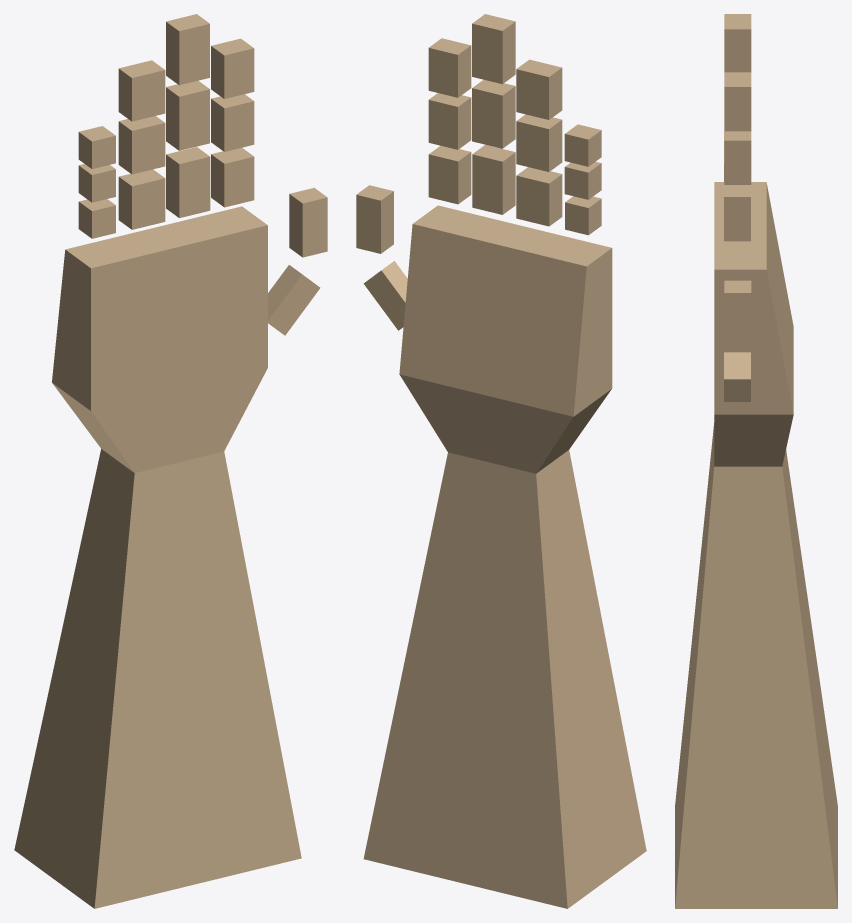
File: LArmX.glb
3 views of the same model, side by side, from view 1: azimuth 30°, elevation 25°; view 2: azimuth 150°, elevation 25°; view 3: azimuth 270°, elevation 25° (orthographic). The views are drawn at different scales.
Parts seen in each view (by area): view 1: arm, m1, m3, m2, r3, r1, r2, t2, i3, i1, i2, t1 (+3 smaller); view 2: arm, m3, m1, m2, r3, r1, r2, t2, i3, i1, i2, t1 (+3 smaller); view 3: arm, t2, i3, m3, i1, i2, t1.
Boxes of the visible parts, x1=… form: arm: x1=14, y1=206, x2=301, y2=908; m1: x1=166, y1=147, x2=210, y2=217; m3: x1=166, y1=14, x2=209, y2=85; m2: x1=166, y1=80, x2=209, y2=150; r3: x1=118, y1=60, x2=165, y2=121; r1: x1=118, y1=169, x2=165, y2=229; r2: x1=118, y1=116, x2=165, y2=174; t2: x1=289, y1=187, x2=327, y2=257; i3: x1=211, y1=38, x2=254, y2=98; i1: x1=211, y1=148, x2=254, y2=207; i2: x1=211, y1=94, x2=254, y2=151; t1: x1=268, y1=265, x2=320, y2=335; arm: x1=363, y1=205, x2=646, y2=908; m3: x1=472, y1=14, x2=515, y2=84; m1: x1=472, y1=145, x2=515, y2=214; m2: x1=472, y1=79, x2=515, y2=148; r3: x1=516, y1=59, x2=562, y2=119; r1: x1=516, y1=167, x2=562, y2=226; r2: x1=516, y1=114, x2=562, y2=171; t2: x1=356, y1=185, x2=393, y2=253; i3: x1=428, y1=38, x2=471, y2=97; i1: x1=428, y1=145, x2=471, y2=204; i2: x1=428, y1=93, x2=471, y2=149; t1: x1=363, y1=261, x2=407, y2=330; arm: x1=675, y1=182, x2=837, y2=908; t2: x1=724, y1=280, x2=751, y2=347; i3: x1=724, y1=72, x2=751, y2=131; m3: x1=724, y1=14, x2=751, y2=72; i1: x1=724, y1=182, x2=750, y2=241; i2: x1=724, y1=131, x2=751, y2=184; t1: x1=724, y1=352, x2=750, y2=401.
Size of the model in its own units: 1.32 by 4.07 by 0.7103.
